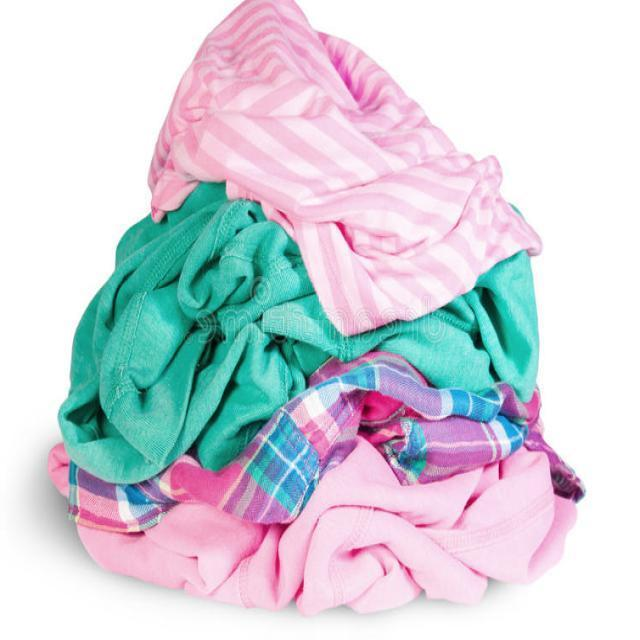clothes: (77, 63, 520, 621)
